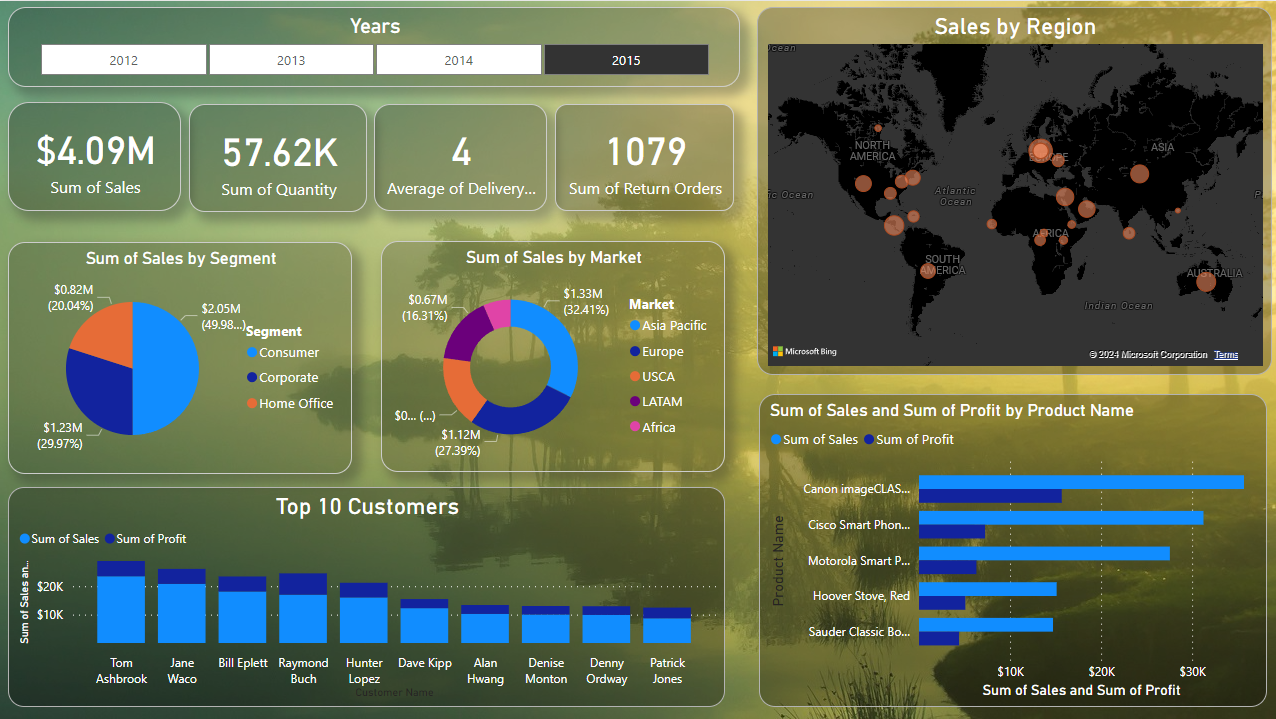

Layout of this report page (visuals, bound fields, positions):
{"tool":"powerbi","page":{"name":"Page 1","canvas":[1280,720],"ordinal":0},"visuals":[{"type":"card","fields":{"Values":["Orders.Sales"]},"box":[9.7,155.6,173.1,108.9],"z":0},{"type":"card","fields":{"Values":["Orders.Quantity"]},"box":[191.6,155.6,177,108],"z":1000},{"type":"card","fields":{"Values":["Orders.Delivery Days"]},"box":[376.4,155.6,173.1,107],"z":2000},{"type":"slicer","title":"Years","fields":{"Values":["Orders.Year"]},"box":[9.7,67.1,725.6,72],"z":3000},{"type":"card","fields":{"Values":["Returns.Return Orders"]},"box":[557.3,155.6,178,107],"z":4000},{"type":"clusteredBarChart","fields":{"Category":["Orders.Product Name"],"Y":["Orders.Sales","Orders.Profit"]},"box":[761.4,392.9,507.1,312.9],"z":5000},{"type":"pieChart","fields":{"Category":["Orders.Segment"],"Y":["Orders.Sales"]},"box":[9.7,285,344.3,187.7],"z":6000},{"type":"donutChart","fields":{"Category":["Orders.Market","Orders.Segment"],"Y":["Orders.Sales"]},"box":[387.1,285,348.2,187.7],"z":7000},{"type":"columnChart","title":"Top 10 Customers","fields":{"Y":["Orders.Sales","Orders.Profit"],"Category":["Orders.Customer Name"]},"box":[9.7,485.3,725.6,220.8],"z":8000},{"type":"map","fields":{"Category":["Orders.Region"],"Size":["Orders.Sales"]},"box":[761.6,37,506.7,349.2],"z":9000},{"type":"textbox","box":[77.8,6.8,569,45.7],"z":9001}]}

Visuals, with their boxes in screenshot pixels (x1, y1, x2, y2), scaled from the page's 1280x720 canvas onto the 1276x719 screenshot:
card - Orders.Sales: <region>10, 155, 182, 264</region>
card - Orders.Quantity: <region>191, 155, 367, 263</region>
card - Orders.Delivery Days: <region>375, 155, 548, 262</region>
"Years" slicer: <region>10, 67, 733, 139</region>
card - Returns.Return Orders: <region>556, 155, 733, 262</region>
clusteredBarChart - Orders.Product Name x Orders.Sales: <region>759, 392, 1265, 705</region>
pieChart - Orders.Segment x Orders.Sales: <region>10, 285, 353, 472</region>
donutChart - Orders.Market x Orders.Segment: <region>386, 285, 733, 472</region>
"Top 10 Customers" columnChart: <region>10, 485, 733, 705</region>
map - Orders.Region x Orders.Sales: <region>759, 37, 1264, 386</region>
textbox: <region>78, 7, 645, 52</region>
